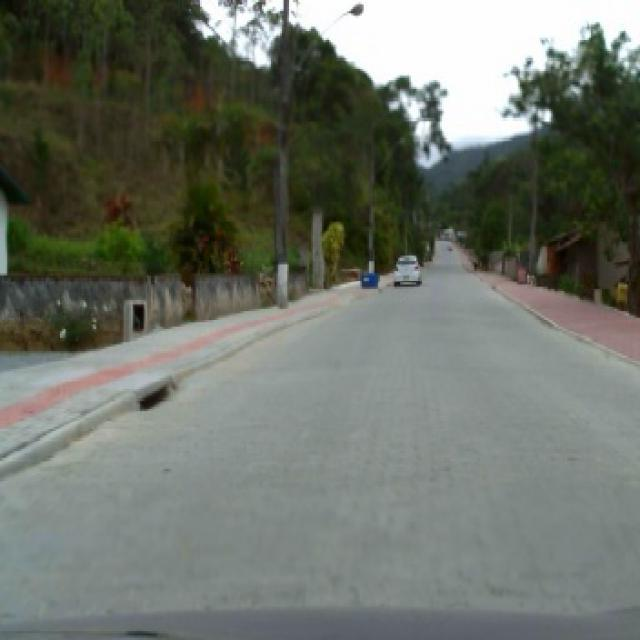Poth-hole: (138, 378, 173, 411)
